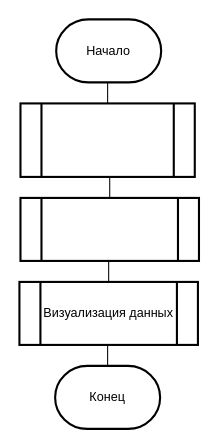
This 217x447 diagram has some shape labels left out. The shapes that lost their labels are listed below. From the top down, each one's box as (x1, y1, x2, y2) in pixels, then its label:
(19, 102, 195, 177): Запись данных о системных вызовах в файл /var/log/syslog
(19, 196, 200, 261): Сбор данных из файла /var/log/syslog
